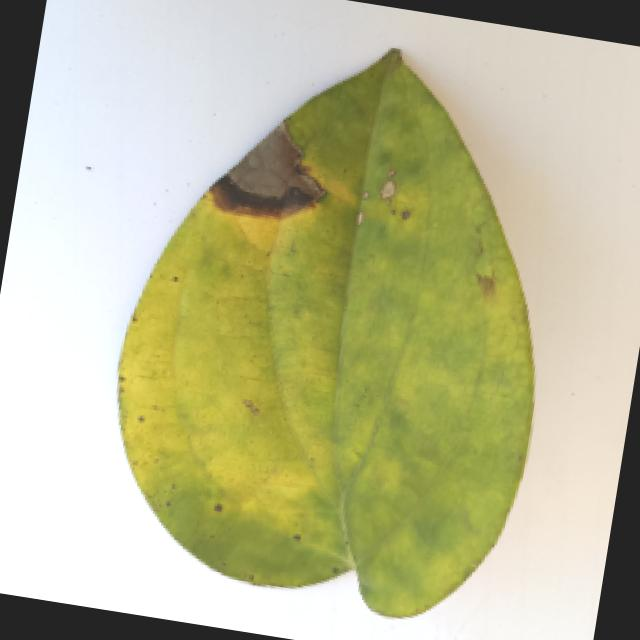slow-decline: (0, 1, 625, 640)
